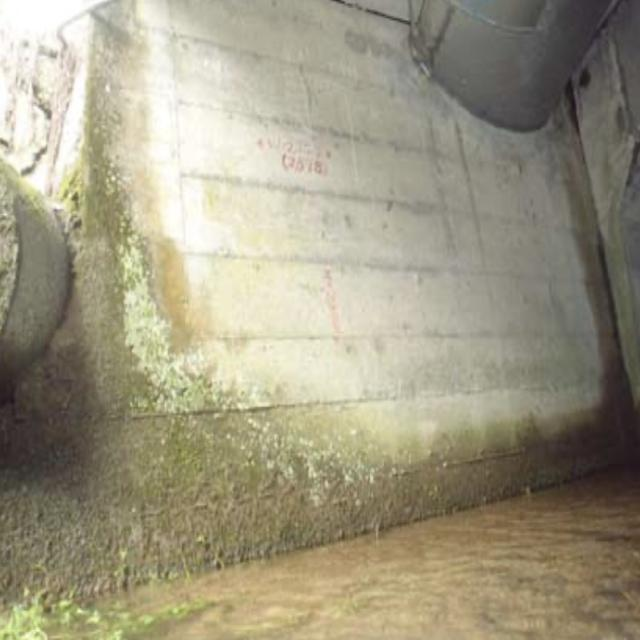freelime: (143, 47, 244, 292)
